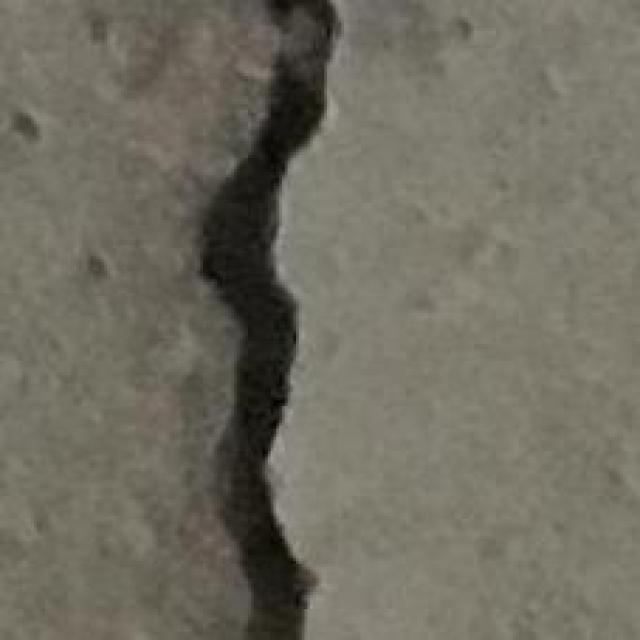Longitudinal: (157, 0, 374, 640)
